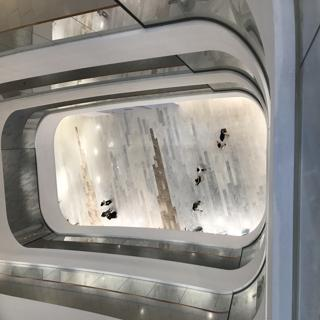person: (95, 210, 128, 222), (95, 196, 116, 208), (219, 123, 230, 141), (189, 200, 202, 215)
